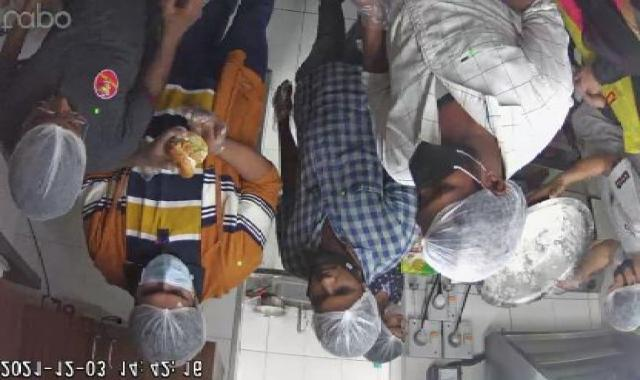hairnet: (417, 175, 535, 282), (0, 120, 100, 224), (121, 299, 204, 372), (294, 295, 380, 358), (361, 320, 425, 372), (589, 280, 640, 338)
